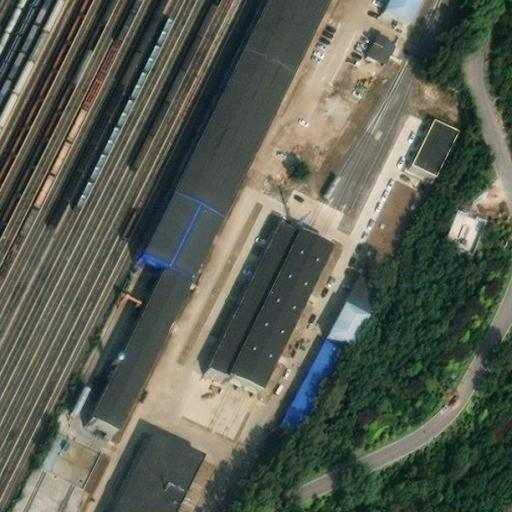building: (143, 0, 331, 274), (207, 209, 337, 380), (92, 260, 194, 423), (107, 419, 208, 512), (281, 327, 352, 432), (360, 173, 426, 261), (328, 265, 394, 345), (34, 426, 106, 494), (412, 108, 462, 168), (437, 203, 486, 254), (368, 25, 398, 56)
